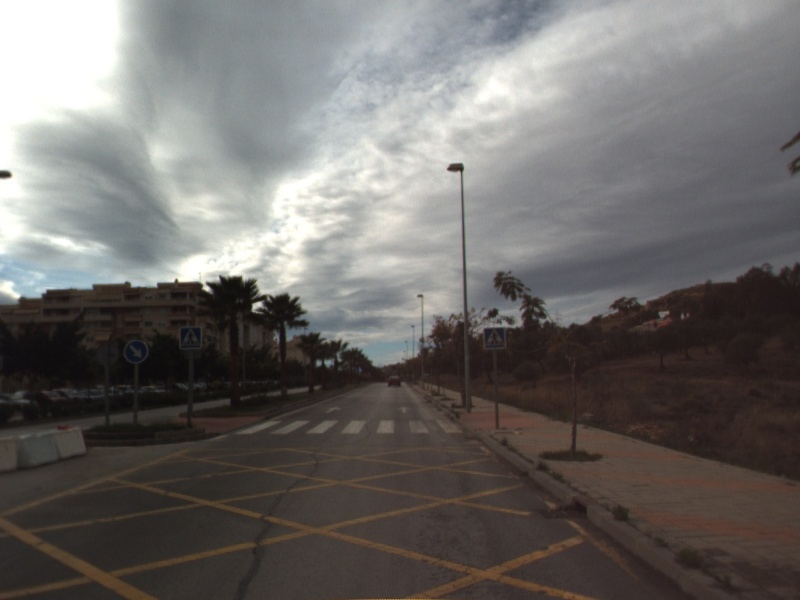STRAIGHT: (322, 404, 343, 415), (395, 404, 414, 415)
